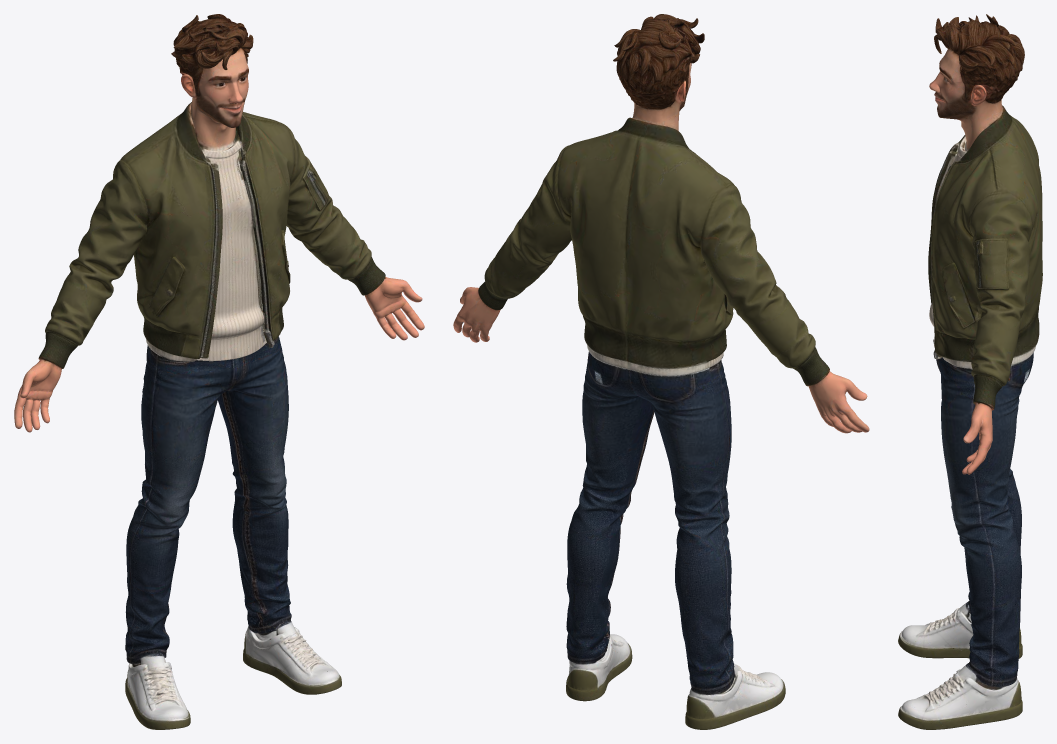
File: player-casual-man-light.glb
3 renders of one model, left to right at view 1: azimuth 30°, elevation 25°; view 2: azimuth 150°, elevation 25°; view 3: azimuth 270°, elevation 25°, orthographic. The views are drawn at different scales.
Visible parts, largest first — view 1: man; view 2: man; view 3: man.
Part boxes in pixels (x1,y1,x2,y2): man: (14, 14, 424, 729); man: (453, 14, 869, 729); man: (898, 14, 1042, 729).
Bounding box in the file's own units: 1.15 × 1.8 × 0.3561.
Materials: 1 (1 with a texture image).
